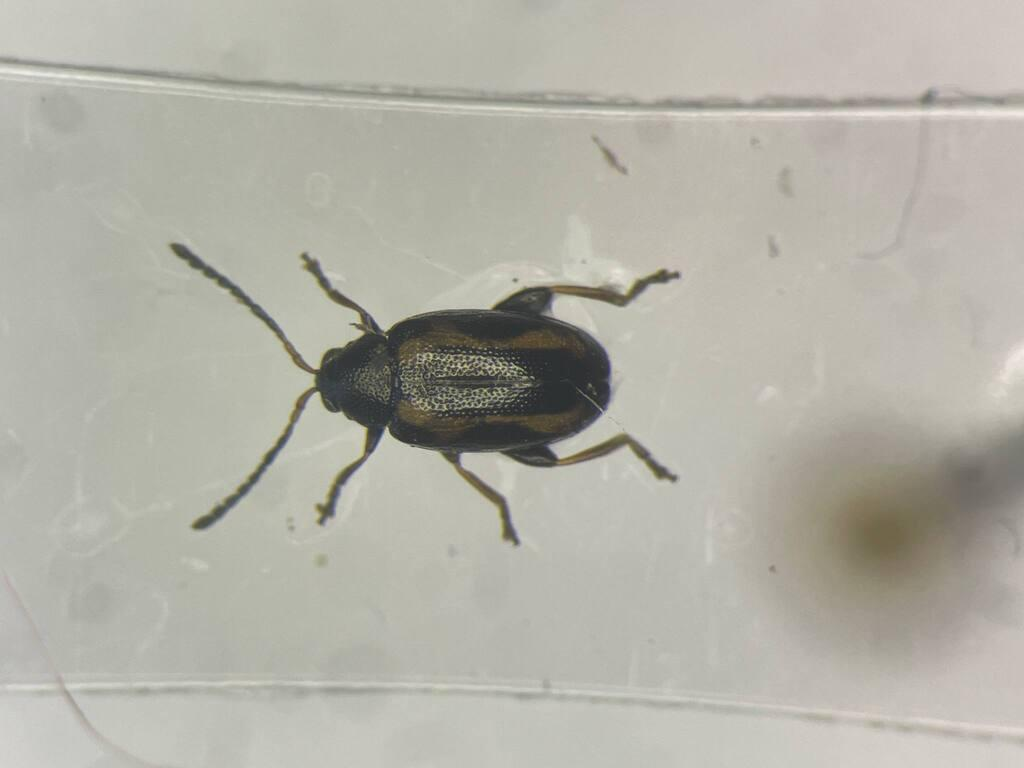flea_beetle: (109, 178, 774, 583)
